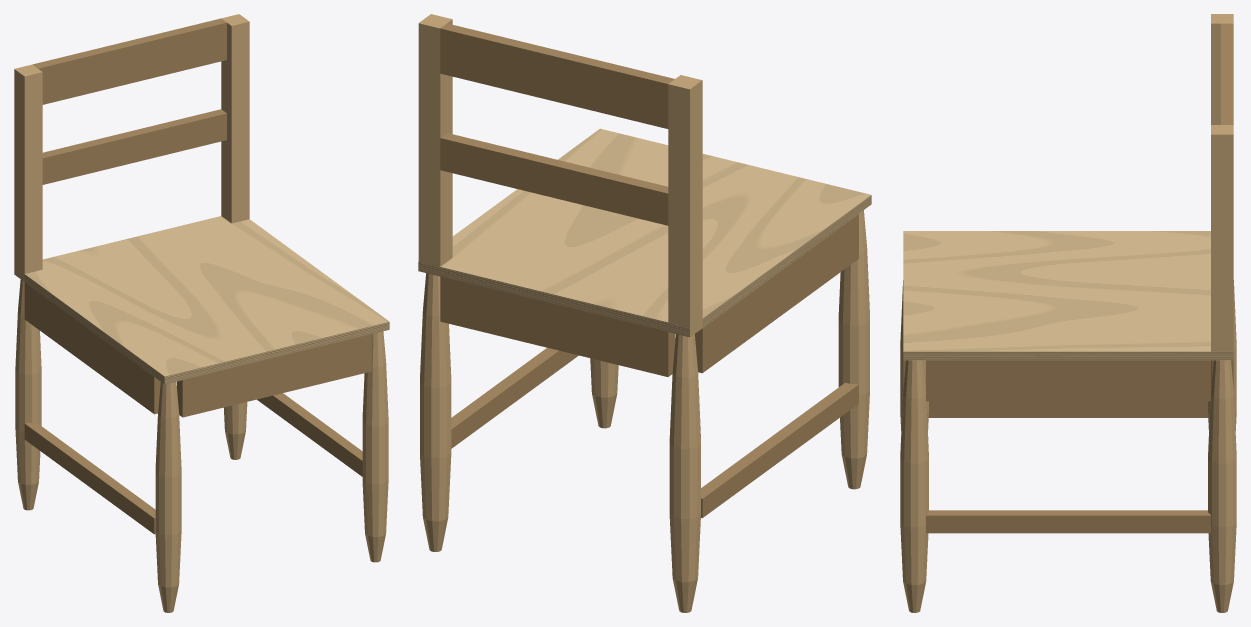
File: SAB-DCH-std.glb
3 views of the same model, side by side, from view 1: azimuth 30°, elevation 25°; view 2: azimuth 150°, elevation 25°; view 3: azimuth 270°, elevation 25° (orthographic). The views are drawn at different scales.
Parts seen in each view (by area): view 1: seat:sheet:eyJtIjoicGx5Iiwic2lkZSI6ImZhY2UiLCJzZWVkIjo2LCJ2Z, leg-bl:pbr, back-top:pbr, rail-f:pbr, leg-br:pbr, back-mid:pbr, leg-fl:pbr, rail-l:pbr, leg-fr:pbr, stretcher-l:pbr, stretcher-r:pbr, seat:sheet:eyJtIjoicGx5Iiwic2lkZSI6ImVkZ2UtZW5kIiwic2VlZCI6N (+1 smaller); view 2: seat:sheet:eyJtIjoicGx5Iiwic2lkZSI6ImZhY2UiLCJzZWVkIjo2LCJ2Z, leg-bl:pbr, leg-br:pbr, back-top:pbr, rail-b:pbr, back-mid:pbr, rail-l:pbr, leg-fl:pbr, stretcher-l:pbr, stretcher-r:pbr, seat:sheet:eyJtIjoicGx5Iiwic2lkZSI6ImVkZ2UtZW5kIiwic2VlZCI6N, seat:sheet:eyJtIjoicGx5Iiwic2lkZSI6ImVkZ2UtbG9uZyIsInNlZWQiO (+1 smaller); view 3: seat:sheet:eyJtIjoicGx5Iiwic2lkZSI6ImZhY2UiLCJzZWVkIjo2LCJ2Z, rail-r:pbr, leg-br:pbr, stretcher-r:pbr, leg-fr:pbr, stretcher-l:pbr, seat:sheet:eyJtIjoicGx5Iiwic2lkZSI6ImVkZ2UtbG9uZyIsInNlZWQiO, leg-bl:pbr, back-top:pbr, leg-fl:pbr.
Part boxes in pixels (x1=…): seat:sheet:eyJtIjoicGx5Iiwic2lkZSI6ImZhY2UiLCJzZWVkIjo2LCJ2Z: x1=25, y1=216, x2=389, y2=376; leg-bl:pbr: x1=14, y1=64, x2=42, y2=510; back-top:pbr: x1=32, y1=18, x2=226, y2=104; rail-f:pbr: x1=177, y1=334, x2=371, y2=417; leg-br:pbr: x1=221, y1=14, x2=249, y2=459; back-mid:pbr: x1=42, y1=109, x2=226, y2=184; leg-fl:pbr: x1=155, y1=382, x2=181, y2=612; rail-l:pbr: x1=24, y1=282, x2=160, y2=414; leg-fr:pbr: x1=362, y1=331, x2=388, y2=562; stretcher-l:pbr: x1=24, y1=422, x2=155, y2=534; stretcher-r:pbr: x1=257, y1=393, x2=362, y2=476; seat:sheet:eyJtIjoicGx5Iiwic2lkZSI6ImVkZ2UtZW5kIiwic2VlZCI6N: x1=164, y1=322, x2=389, y2=384; seat:sheet:eyJtIjoicGx5Iiwic2lkZSI6ImZhY2UiLCJzZWVkIjo2LCJ2Z: x1=440, y1=128, x2=870, y2=322; leg-bl:pbr: x1=668, y1=75, x2=702, y2=612; leg-br:pbr: x1=418, y1=14, x2=452, y2=551; back-top:pbr: x1=440, y1=23, x2=674, y2=128; rail-b:pbr: x1=440, y1=276, x2=675, y2=376; back-mid:pbr: x1=440, y1=133, x2=668, y2=225; rail-l:pbr: x1=695, y1=214, x2=858, y2=373; leg-fl:pbr: x1=838, y1=210, x2=869, y2=489; stretcher-l:pbr: x1=701, y1=382, x2=858, y2=518; stretcher-r:pbr: x1=451, y1=347, x2=578, y2=448; seat:sheet:eyJtIjoicGx5Iiwic2lkZSI6ImVkZ2UtZW5kIiwic2VlZCI6N: x1=418, y1=261, x2=689, y2=337; seat:sheet:eyJtIjoicGx5Iiwic2lkZSI6ImVkZ2UtbG9uZyIsInNlZWQiO: x1=702, y1=195, x2=871, y2=327; seat:sheet:eyJtIjoicGx5Iiwic2lkZSI6ImZhY2UiLCJzZWVkIjo2LCJ2Z: x1=903, y1=231, x2=1210, y2=351; rail-r:pbr: x1=926, y1=360, x2=1210, y2=401; leg-br:pbr: x1=1208, y1=125, x2=1236, y2=612; stretcher-r:pbr: x1=926, y1=510, x2=1210, y2=533; leg-fr:pbr: x1=900, y1=360, x2=928, y2=612; stretcher-l:pbr: x1=928, y1=401, x2=1208, y2=417; seat:sheet:eyJtIjoicGx5Iiwic2lkZSI6ImVkZ2UtbG9uZyIsInNlZWQiO: x1=903, y1=351, x2=1233, y2=360; leg-bl:pbr: x1=1208, y1=14, x2=1236, y2=430; back-top:pbr: x1=1221, y1=23, x2=1233, y2=124; leg-fl:pbr: x1=900, y1=280, x2=928, y2=430.
Size of the model in its own units: 0.45 by 0.82 by 0.52.
15 materials, 3 textured.
